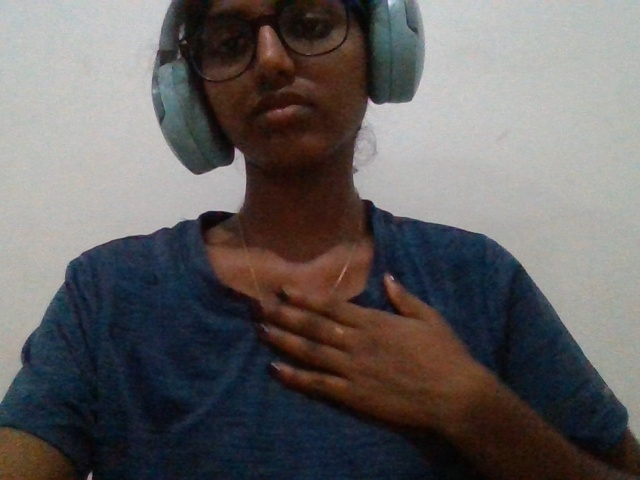Please: (230, 251, 537, 480)
